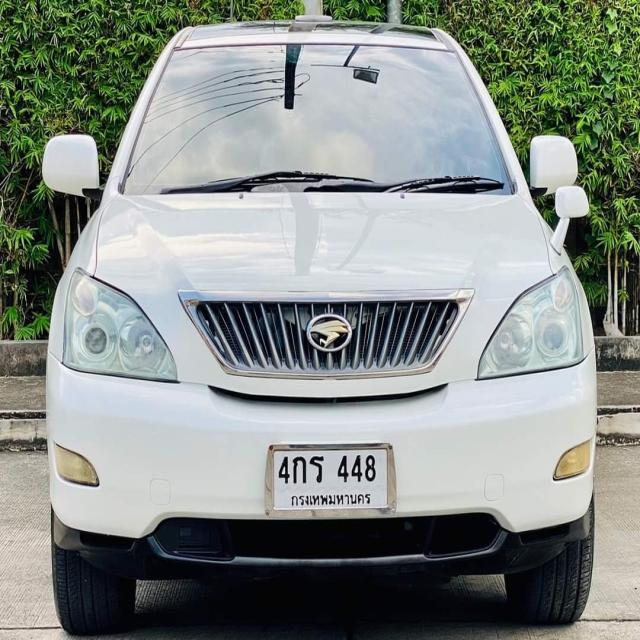license_plate: (263, 440, 398, 519)
